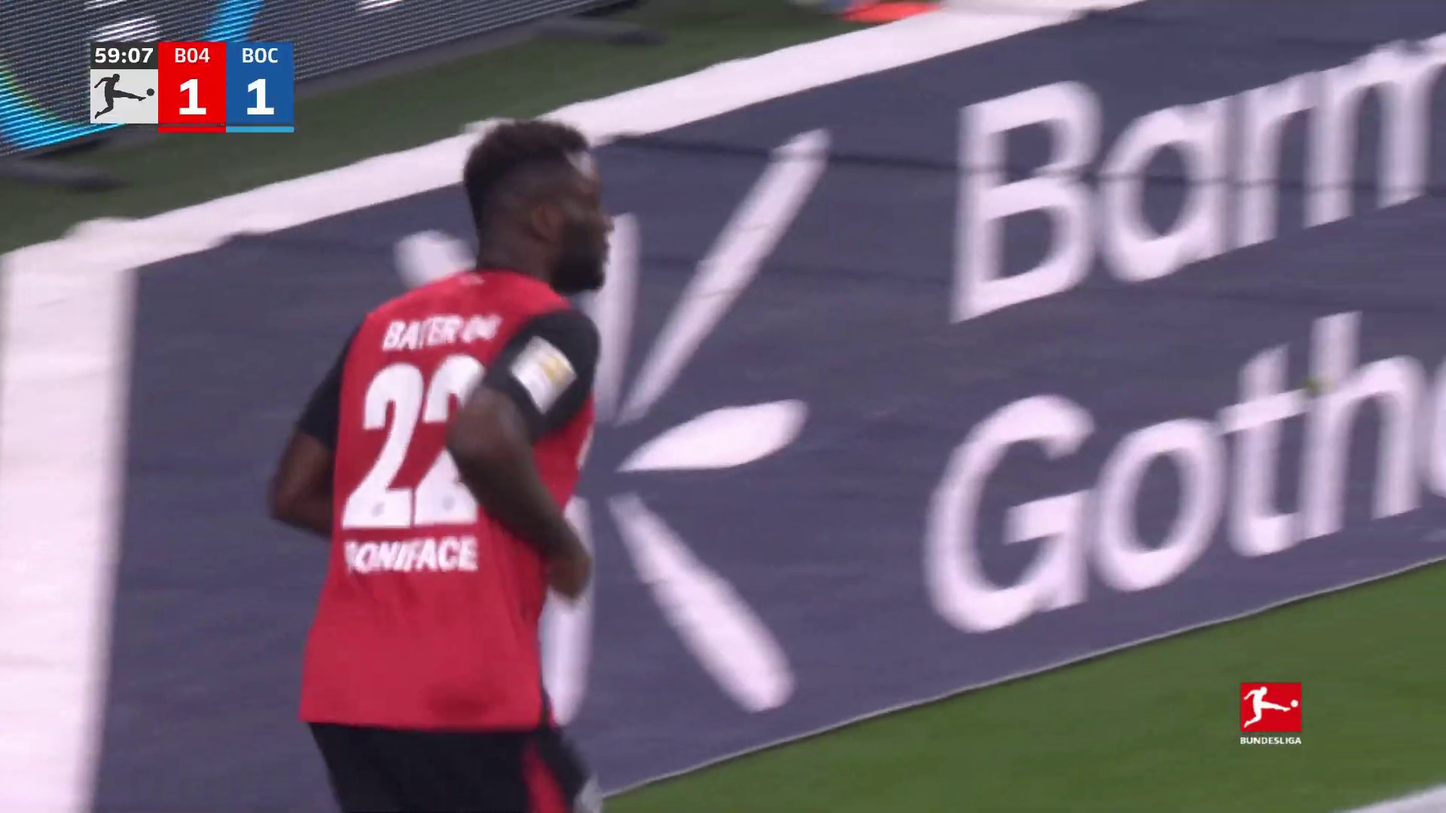player: (228, 103, 638, 811)
